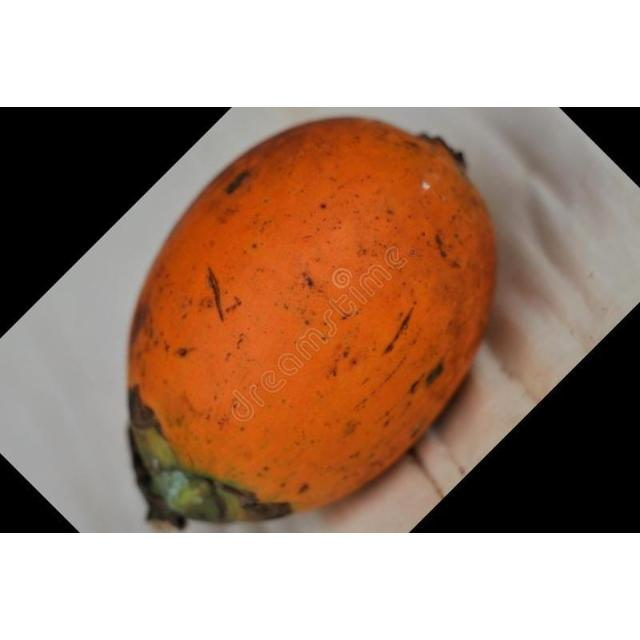good: (125, 116, 498, 532)
